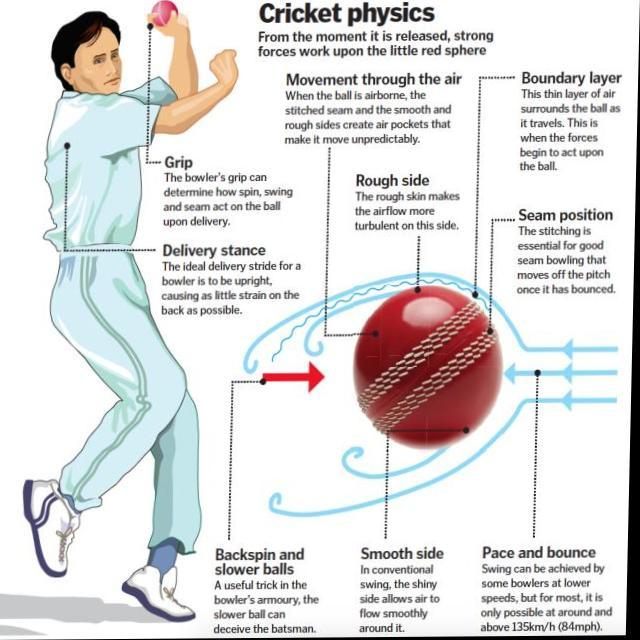cricket ball: (354, 287, 506, 452)
